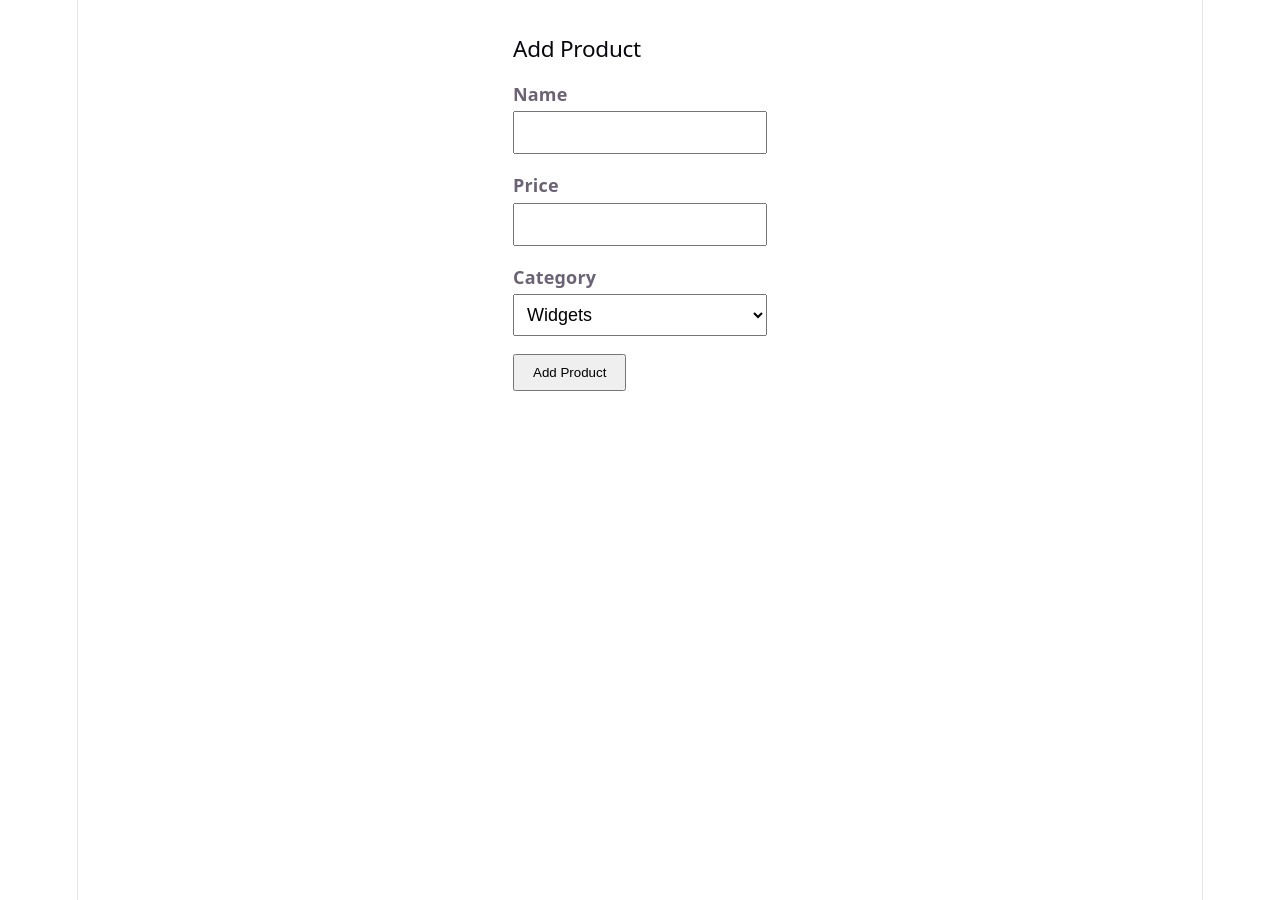
ProductForm (create mode) › shows a loading state and disables inputs while submitting, guarding re-entrant submits
Expected: the dropdown labelled "Category" is enabled, x1=513 y1=294 x2=767 y2=336
Type "New Product" into the field labelled "Name" at (640, 133), box x1=513 y1=111 x2=767 y2=154
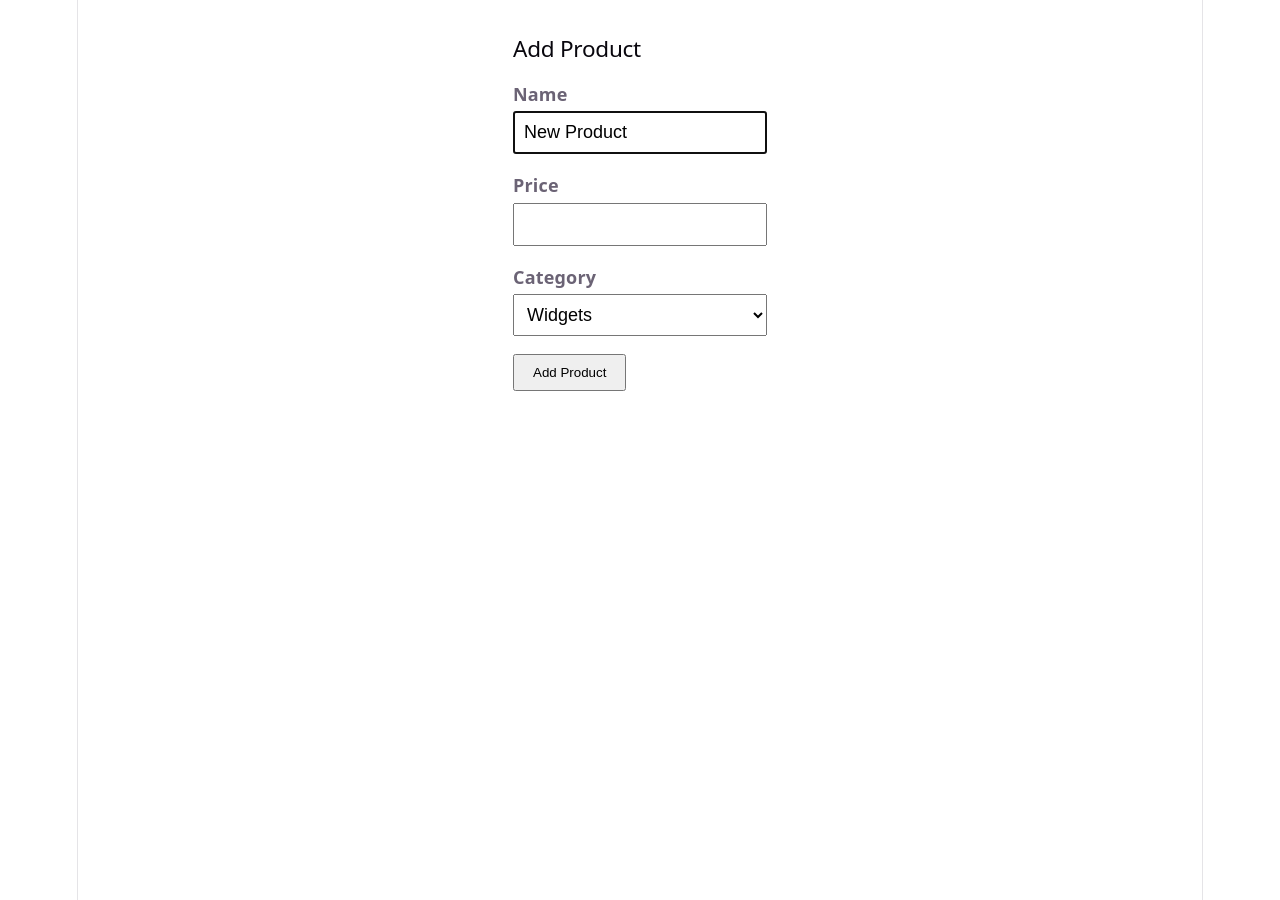
Type "9.99" into the number field labelled "Price" at (640, 224), box x1=513 y1=203 x2=767 y2=246
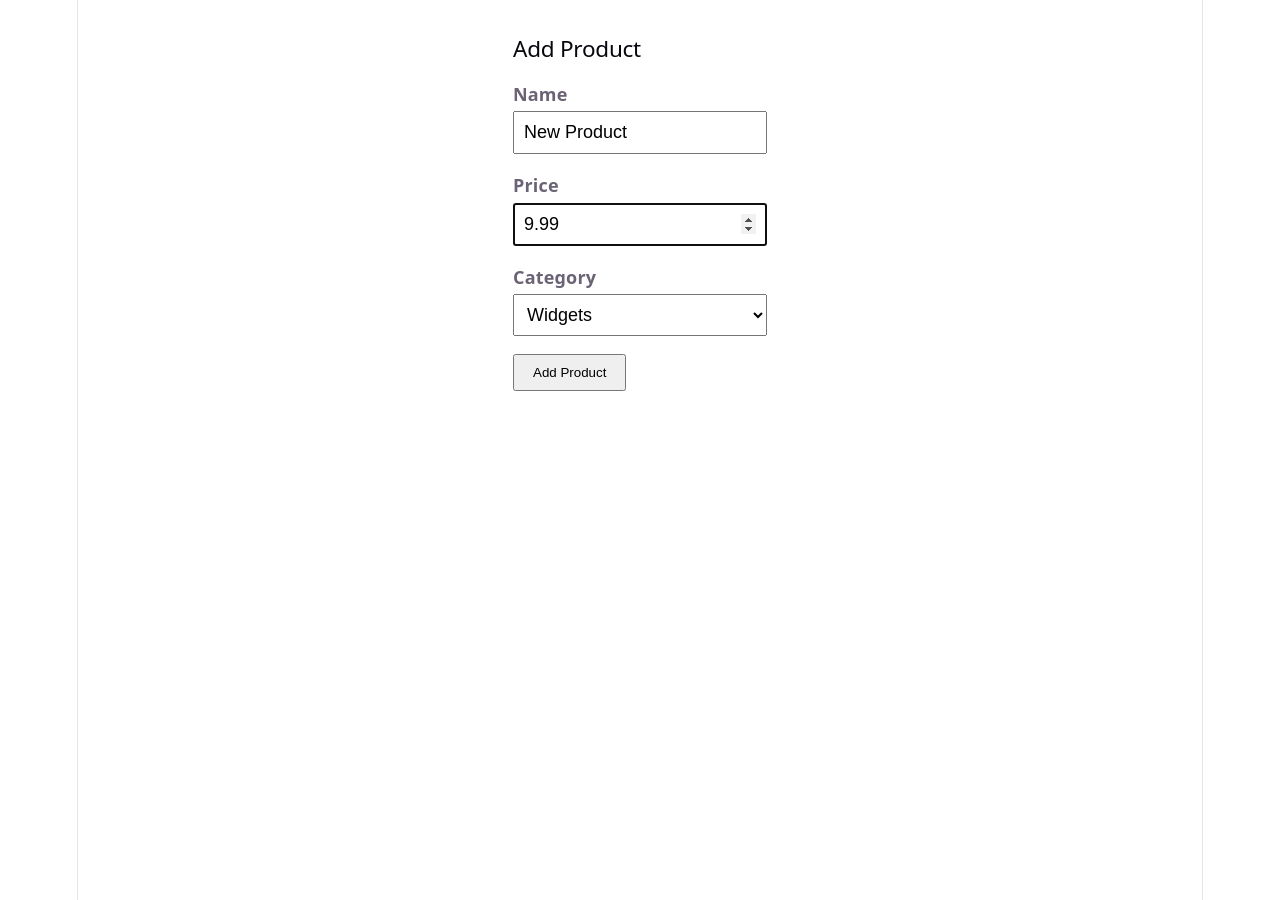
Click the button "Add Product" at (570, 373), box x1=513 y1=354 x2=626 y2=391
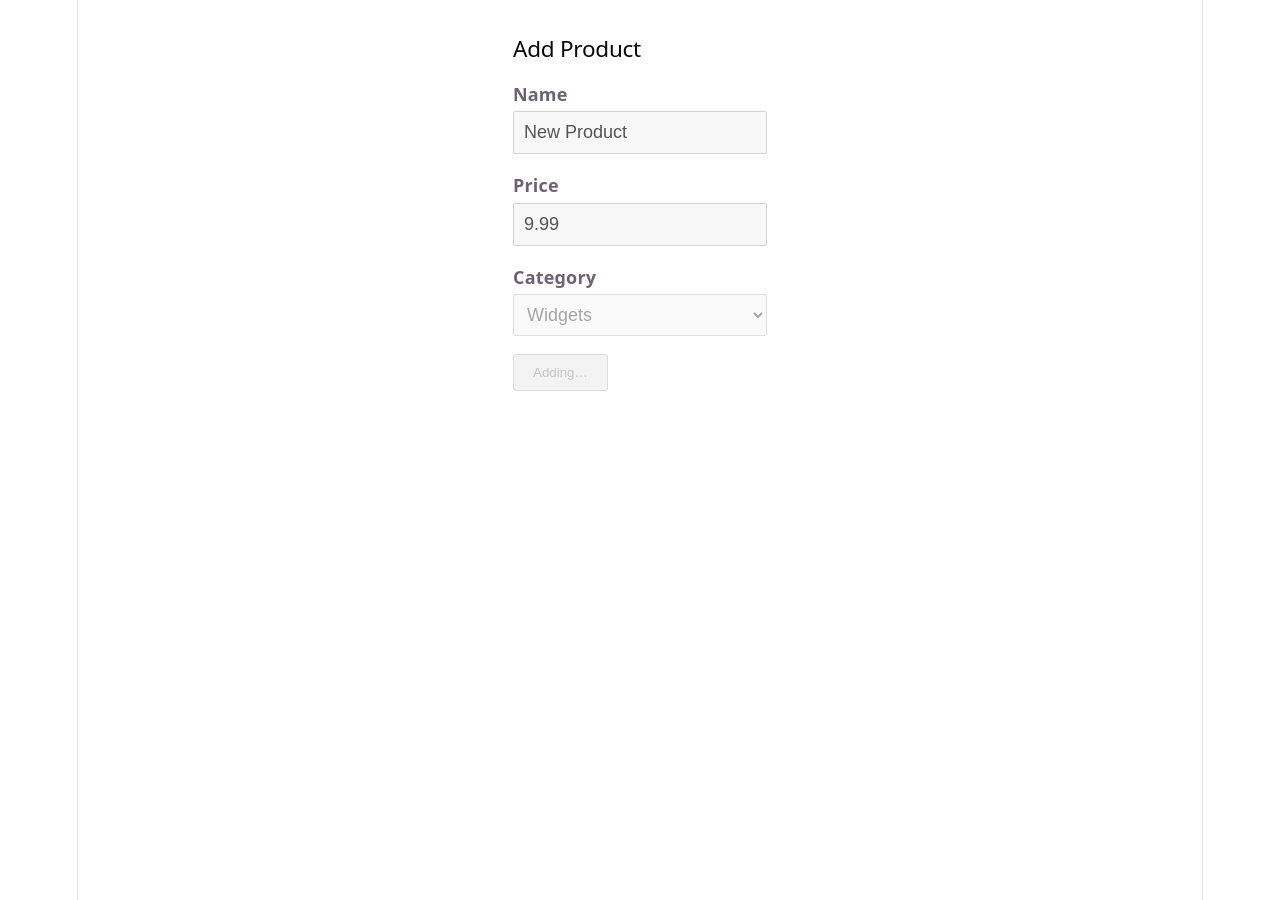
Expected: the button "Adding…" is disabled
Expected: the field labelled "Name" is disabled, x1=513 y1=111 x2=767 y2=154
Expected: the number field labelled "Price" is disabled, x1=513 y1=203 x2=767 y2=246
Note: Re-entrant click while still pending must not fire a second create call.
Click the button "Adding…" at (560, 373), box x1=513 y1=354 x2=608 y2=391
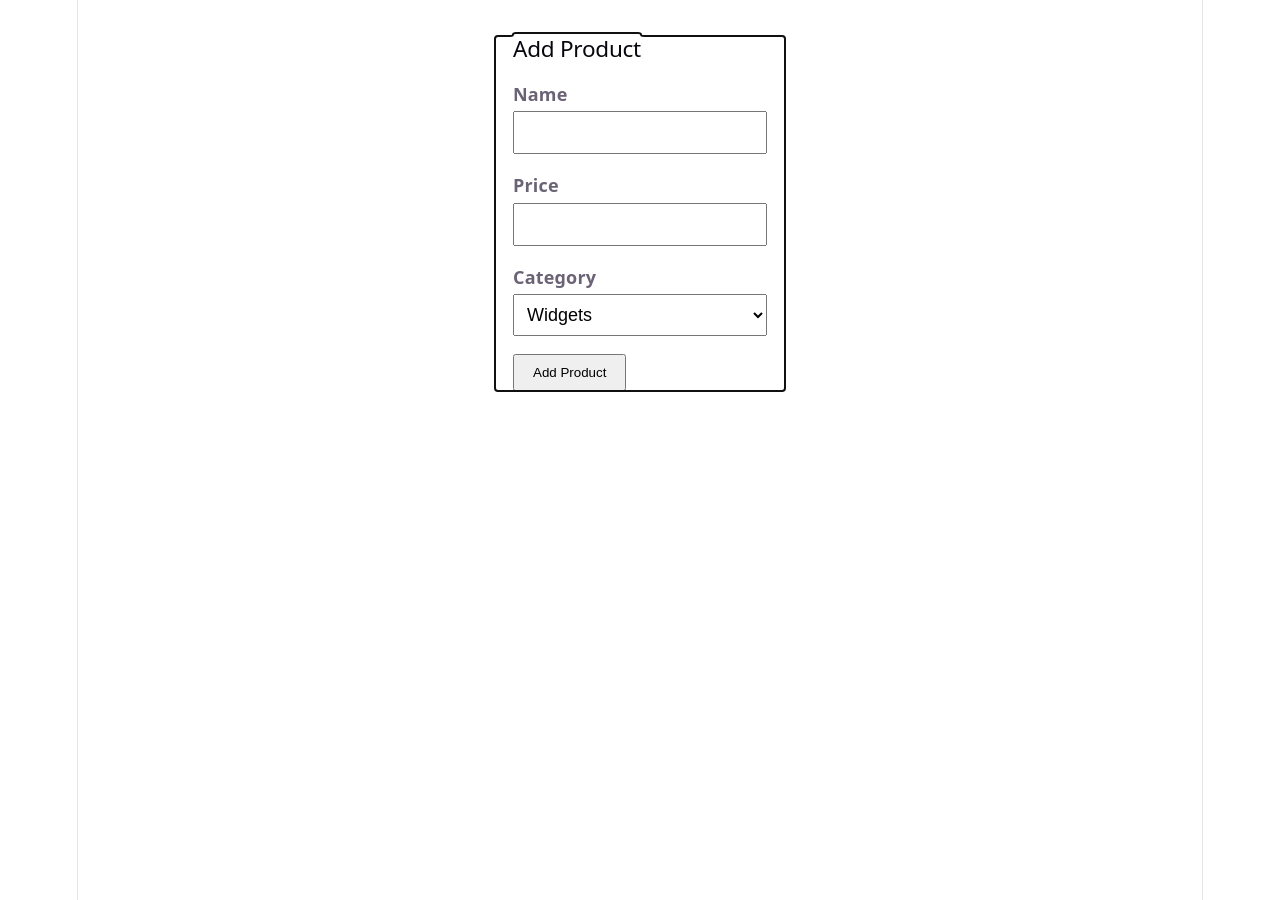
Expected: the button "Add Product" is enabled, x1=513 y1=354 x2=626 y2=391
